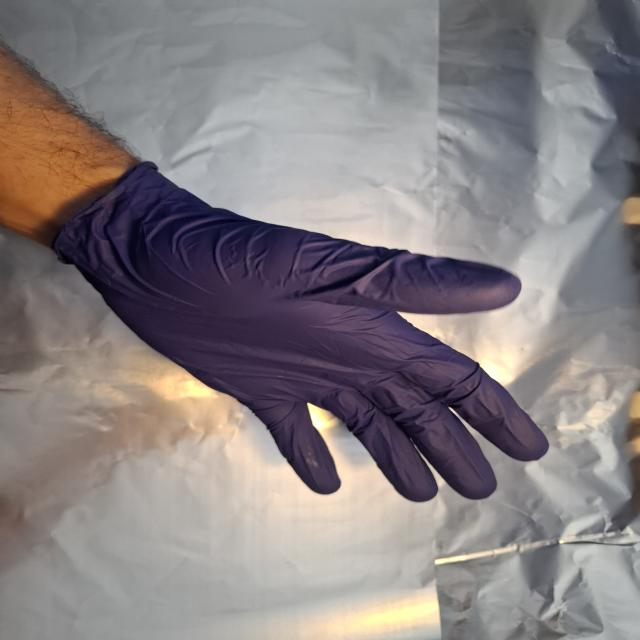glove_on: (57, 164, 555, 508)
